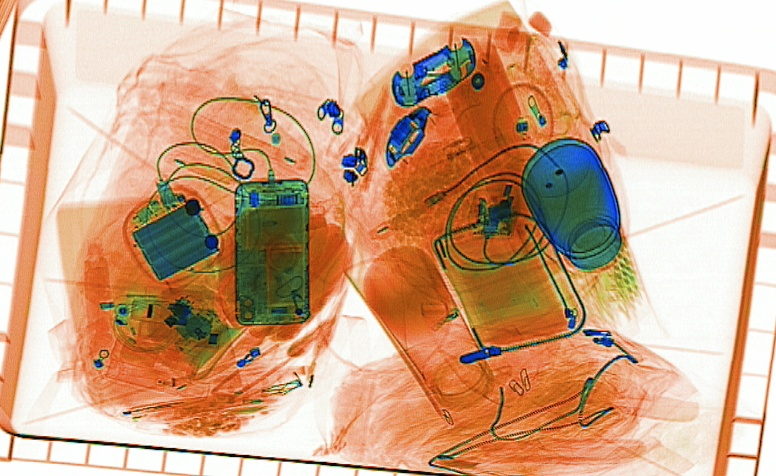powerbank: (121, 184, 222, 285)
